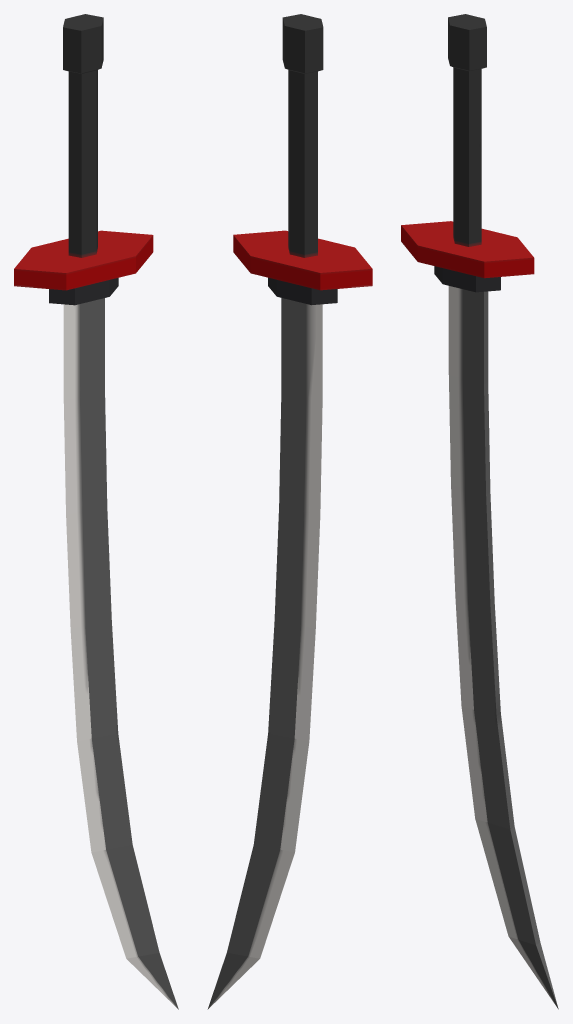
The model's file is HoukiSword.fbx.
The picture shows the model from 3 angles, left to right: view 1: azimuth 30°, elevation 25°; view 2: azimuth 150°, elevation 25°; view 3: azimuth 330°, elevation 25°; orthographic projection. The views are drawn at different scales.
Parts seen in each view (by area): view 1: Blade; view 2: Blade; view 3: Blade.
Part boxes in pixels (x1,y1,x2,y2): Blade: [14, 14, 178, 1009]; Blade: [207, 14, 372, 1009]; Blade: [401, 14, 558, 1009].
Bounding box in the file's own units: 1.46 × 8.55 × 0.5339.
1 material, 1 textured.
